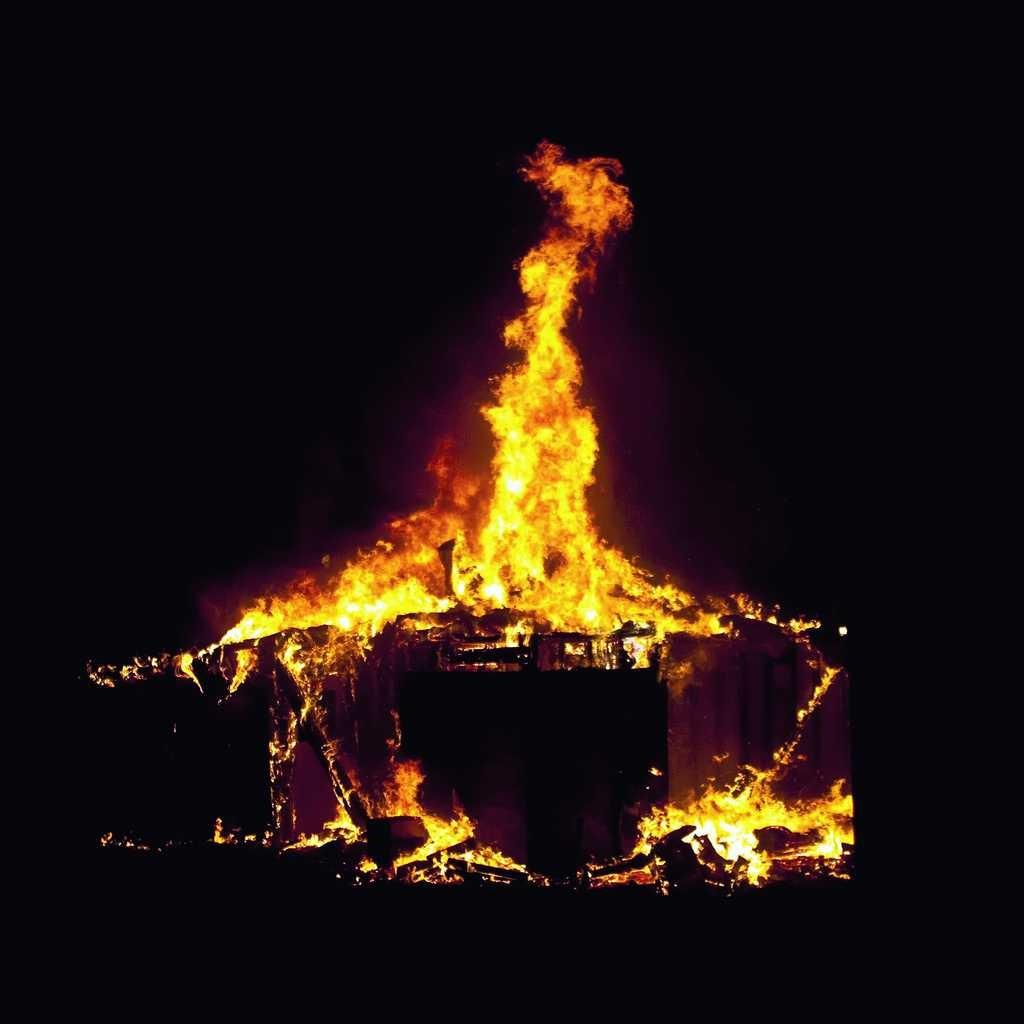fire: (488, 420, 585, 602), (325, 558, 450, 628), (525, 252, 568, 410)
